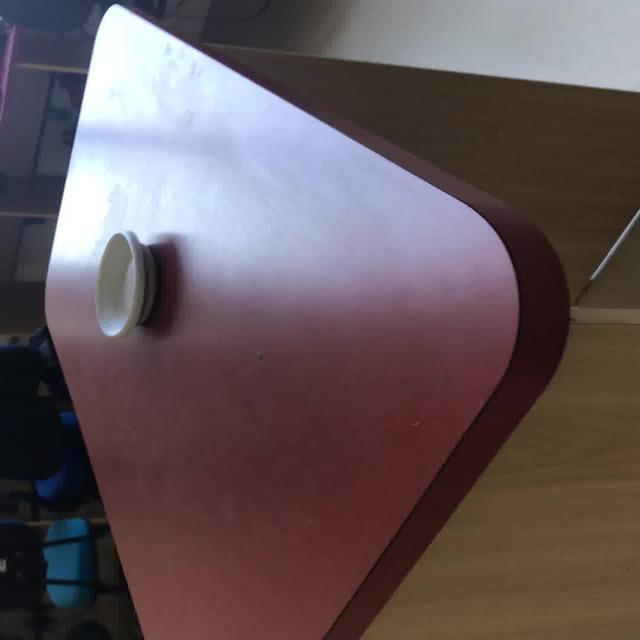plate: (41, 2, 569, 638), (94, 230, 156, 337)
